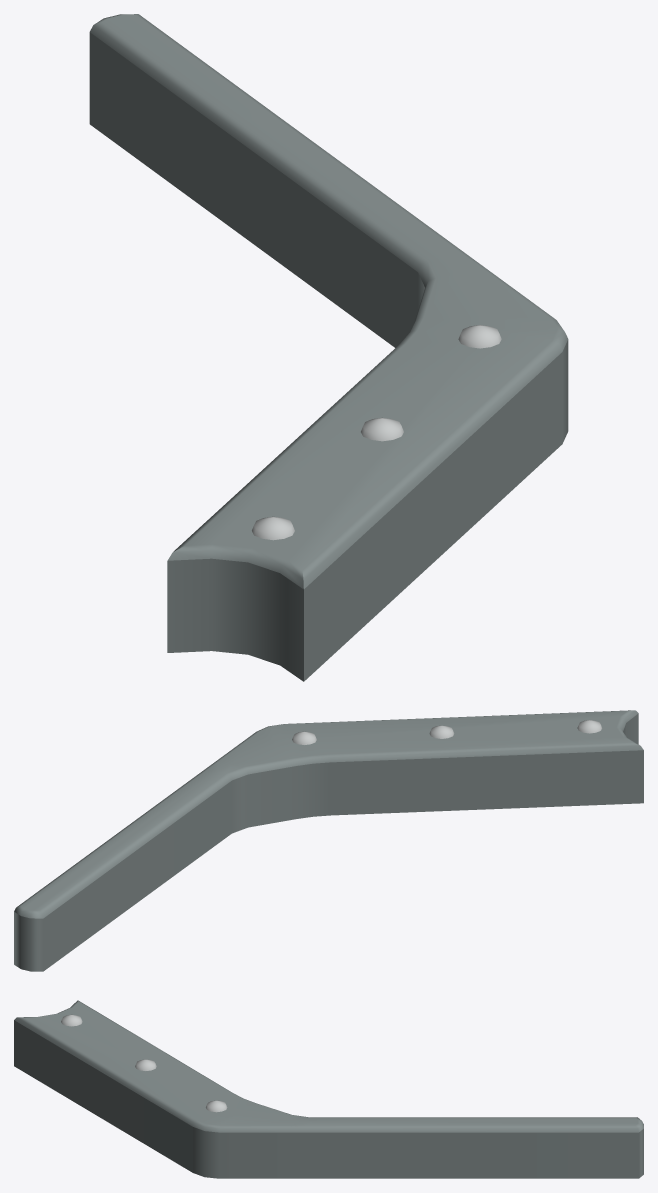
Rendered from CornerRight.glb.
3 renders of one model, top to bottom at view 1: azimuth 30°, elevation 25°; view 2: azimuth 150°, elevation 25°; view 3: azimuth 270°, elevation 25°, orthographic. The views are drawn at different scales.
Visible parts, largest first — view 1: CormerRight.001; view 2: CormerRight.001; view 3: CormerRight.001.
Part boxes in pixels (left/top/right/bottom): CormerRight.001: left=89, top=14, right=568, bottom=681; CormerRight.001: left=14, top=710, right=643, bottom=971; CormerRight.001: left=14, top=1000, right=643, bottom=1178.
Size of the model in its own units: 0.14 by 0.0289 by 0.2859.
Materials: 1 (1 with a texture image).
